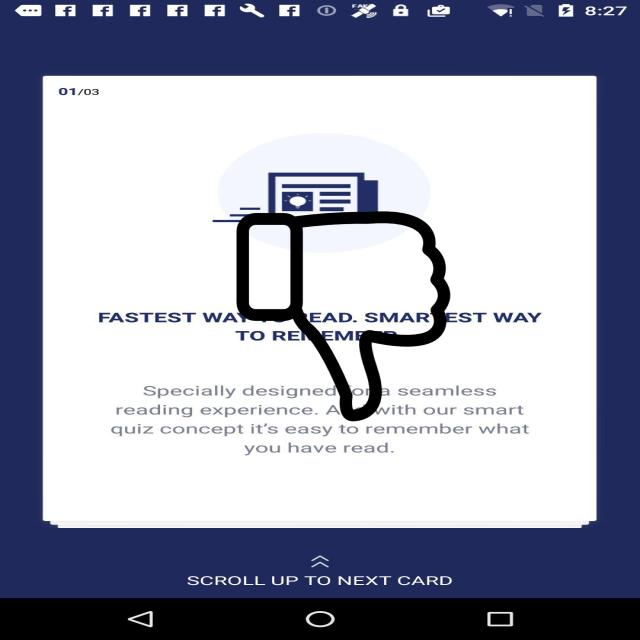obstruction: (234, 212, 454, 422)
